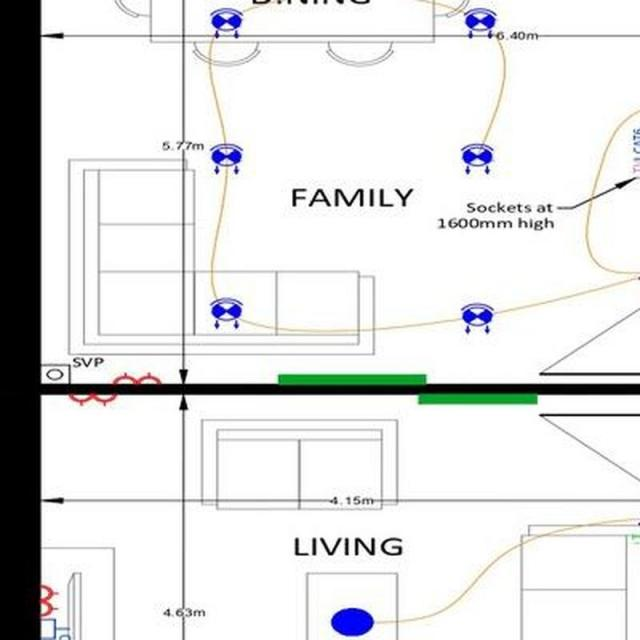Cat 6 Data Socket: (39, 618, 69, 640)
Double Socket: (39, 585, 59, 618), (68, 394, 116, 407), (112, 371, 162, 383)
Low Energy Downlighter: (463, 6, 497, 38), (461, 303, 493, 334), (210, 297, 242, 328), (460, 144, 493, 174), (210, 8, 242, 38), (210, 144, 242, 174)
Low Energy Pendant Light: (331, 607, 374, 635)
Radiator: (278, 374, 427, 386), (417, 394, 537, 403)
